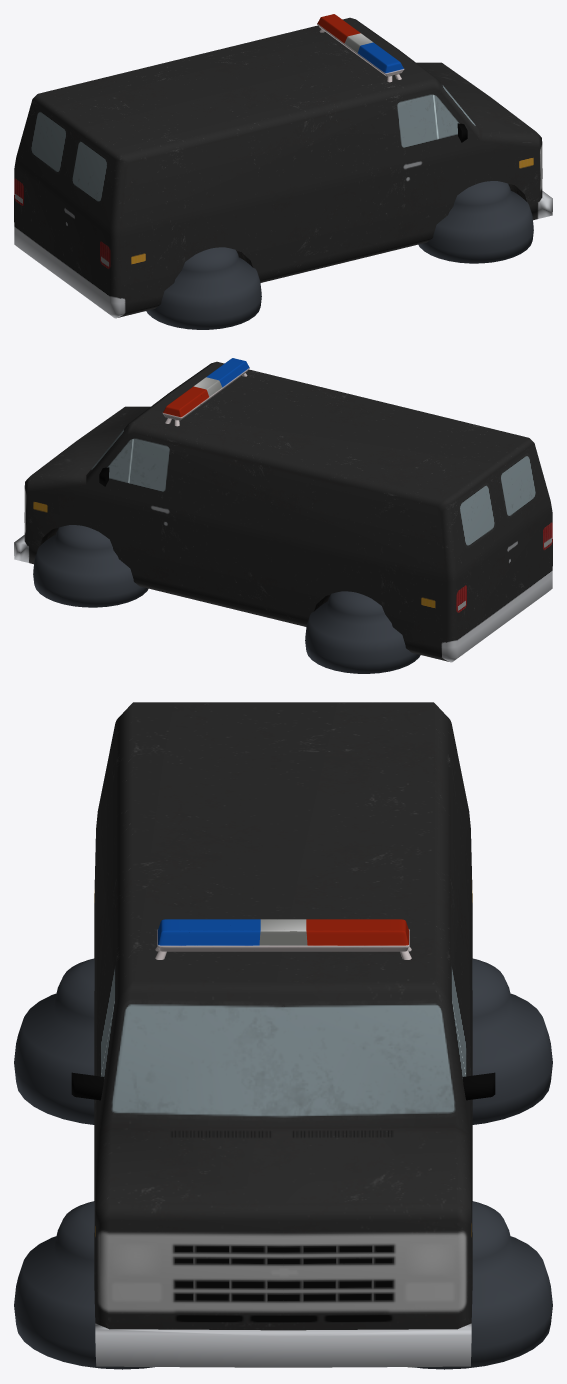
Rendered from PoliceVan.fbx.
3 renders of one model, top to bottom at view 1: azimuth 30°, elevation 25°; view 2: azimuth 150°, elevation 25°; view 3: azimuth 270°, elevation 25°, orthographic. The views are drawn at different scales.
Visible parts, largest first — view 1: Cube.002, Sphere.001, Sphere, Roof light bar; view 2: Cube.002, Sphere.001, Sphere, Roof light bar; view 3: Cube.002, Sphere, Sphere.001, Roof light bar.
Part boxes in pixels (x1,y1,x2,y2): Cube.002: (14, 17, 552, 318); Sphere.001: (146, 247, 261, 329); Sphere: (418, 181, 533, 263); Roof light bar: (317, 14, 404, 82); Cube.002: (14, 361, 552, 662); Sphere.001: (305, 591, 420, 673); Sphere: (33, 525, 148, 607); Roof light bar: (162, 358, 249, 426); Cube.002: (71, 702, 495, 1367); Sphere: (14, 1201, 552, 1369); Sphere.001: (14, 958, 552, 1124); Roof light bar: (155, 919, 411, 959).
Size of the model in its own units: 325 by 143 by 188.
